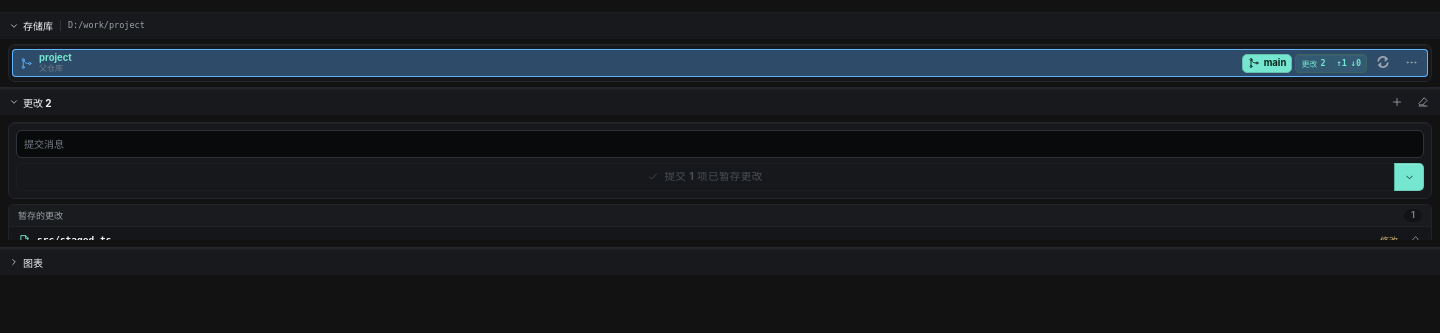
Test: GitPane basics and lifecycle › keeps a failed commit message and can retry
In the text box labelled "提交消息": (720, 144) [16,130,1424,158], type "feat: keep me"
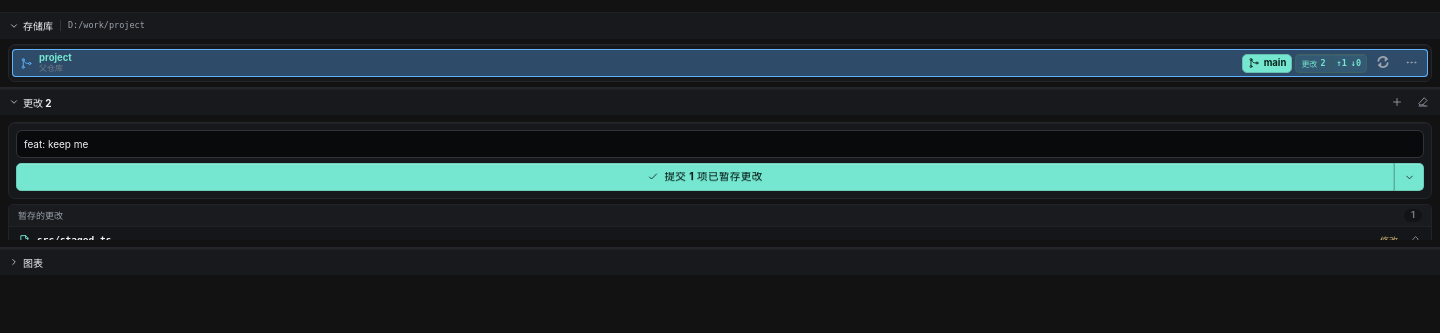
Click the button "提交 1 项已暂存更改": (705, 177) [16,163,1394,191]
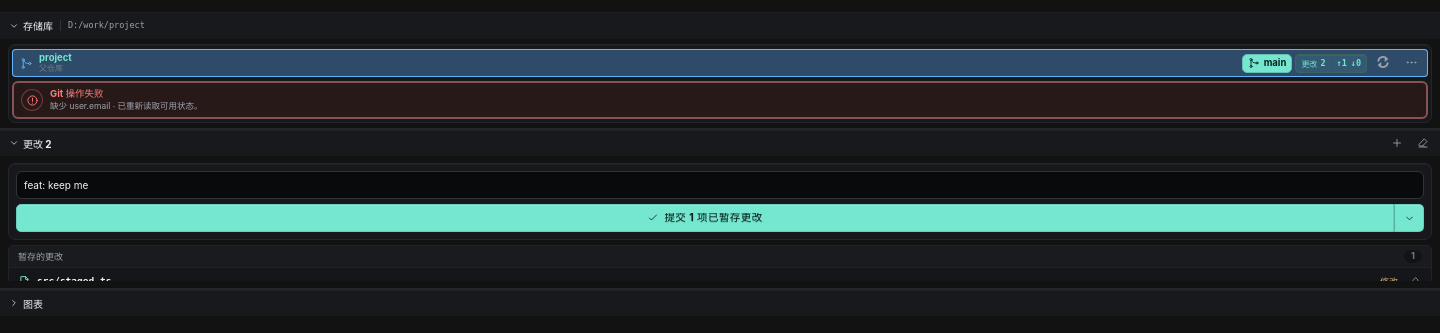
Result: the message shows "缺少 user.email" at [50,101,202,111]
Click the button "提交 1 项已暂存更改": (705, 218) [16,204,1394,232]
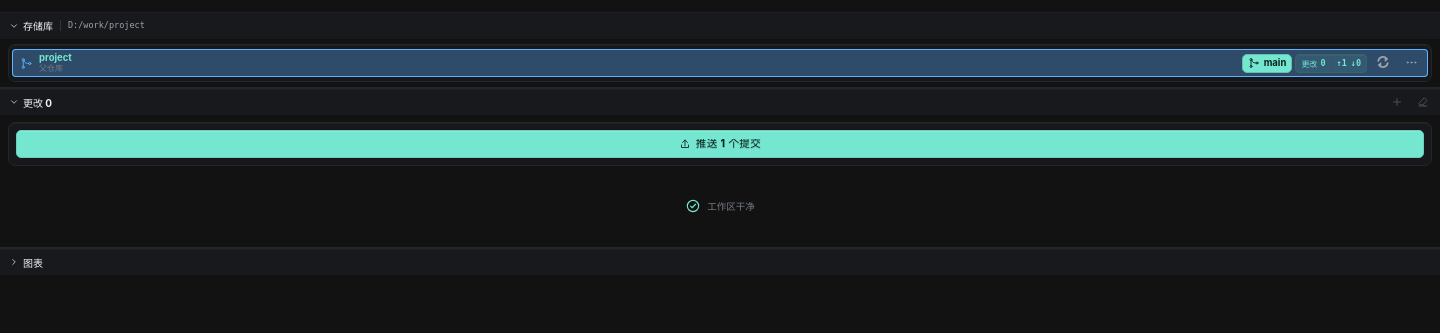
Result: the text box labelled "提交消息" is gone
